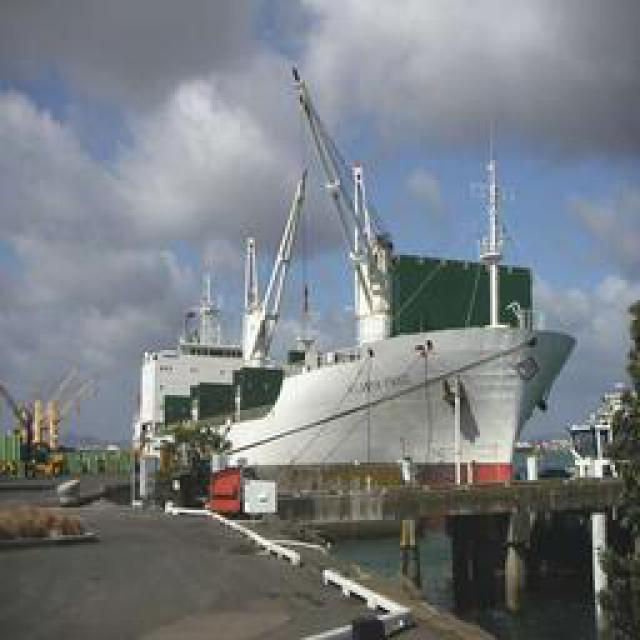Ship: (126, 62, 594, 552)
